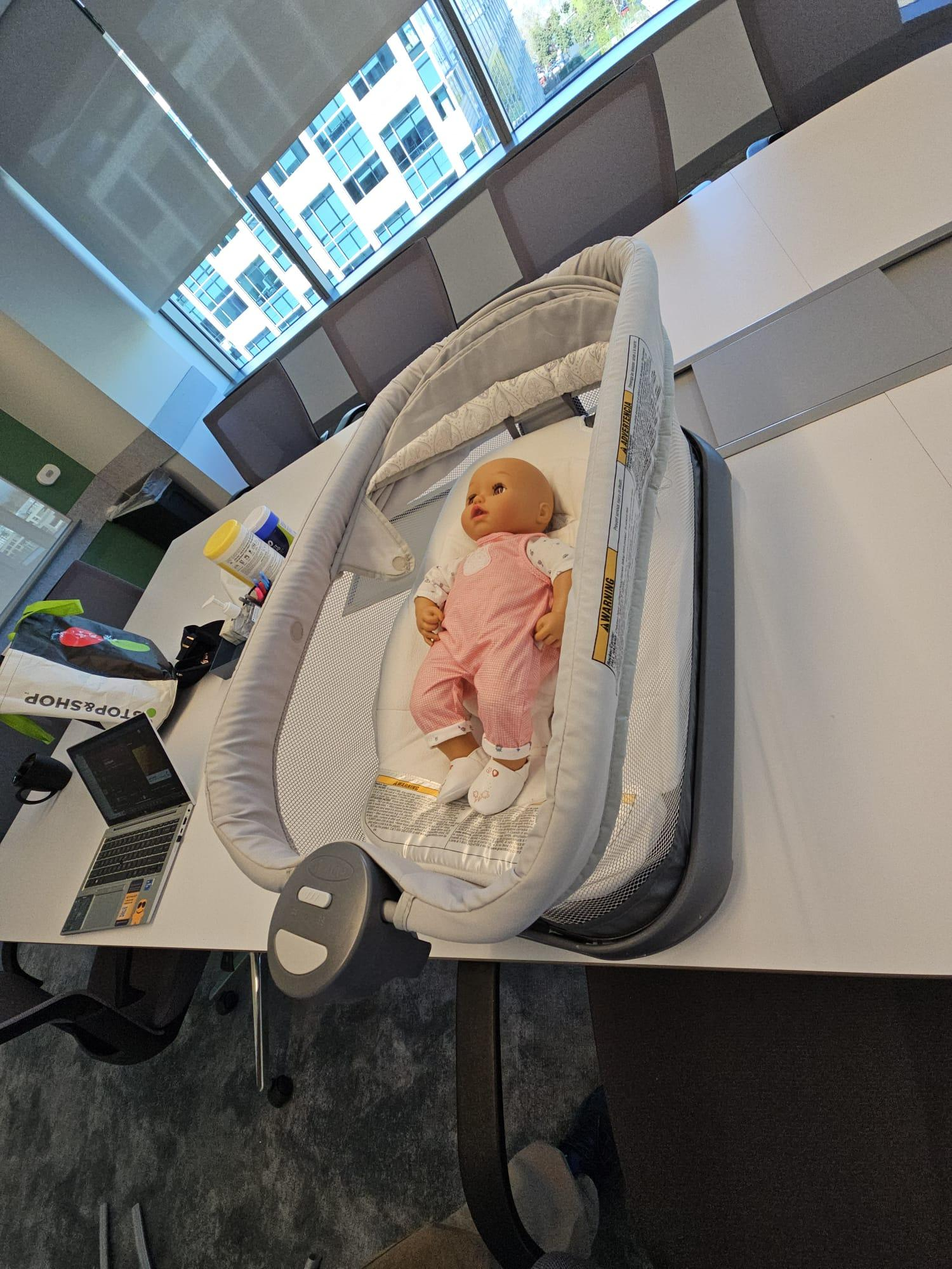baby: (387, 441, 590, 785)
